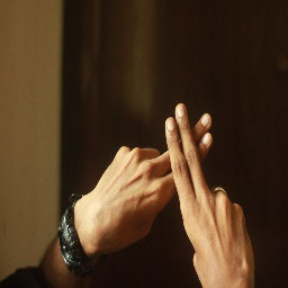F: (135, 91, 233, 221)
